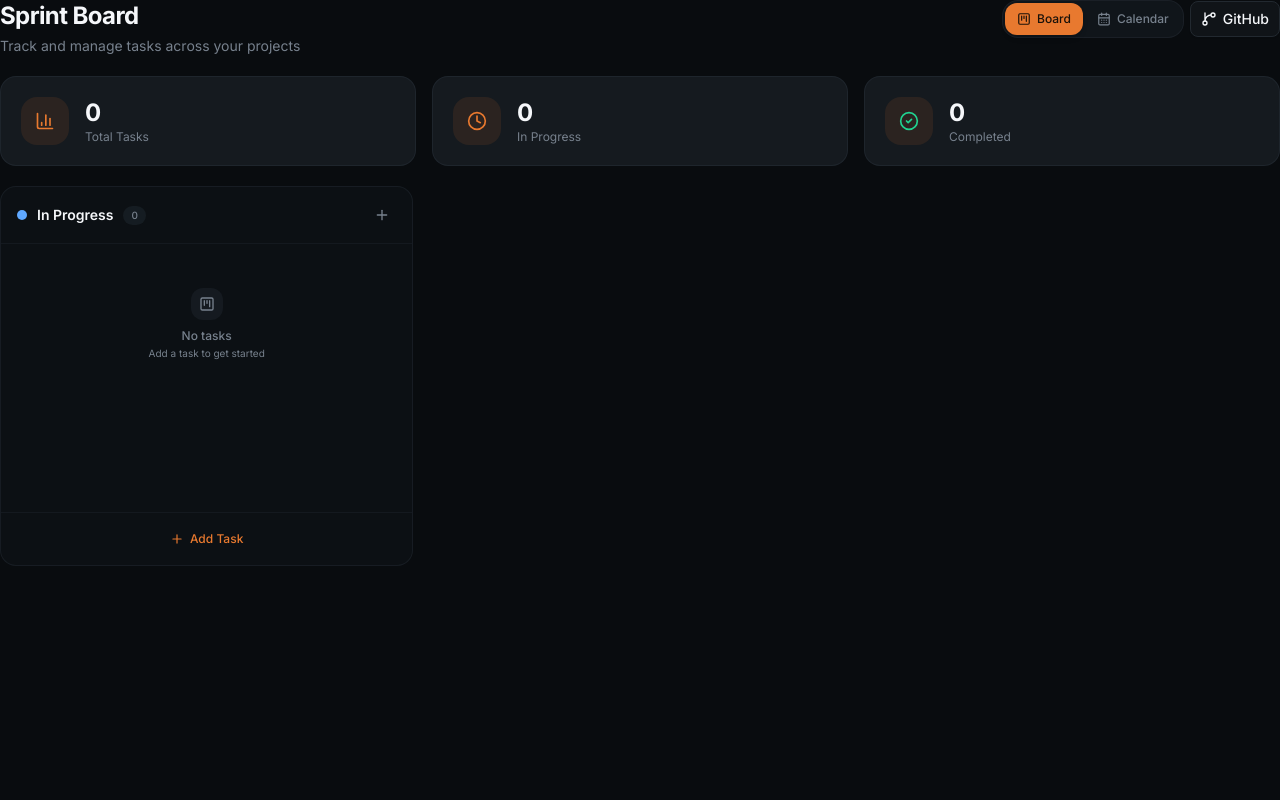
Test: BoardPage calendar › opens the task detail dialog when a calendar chip is clicked
Expected: the heading "Sprint Board" is shown, [0, 1, 138, 30]
Click the button "Calendar": [1133, 19] box [1085, 3, 1181, 35]
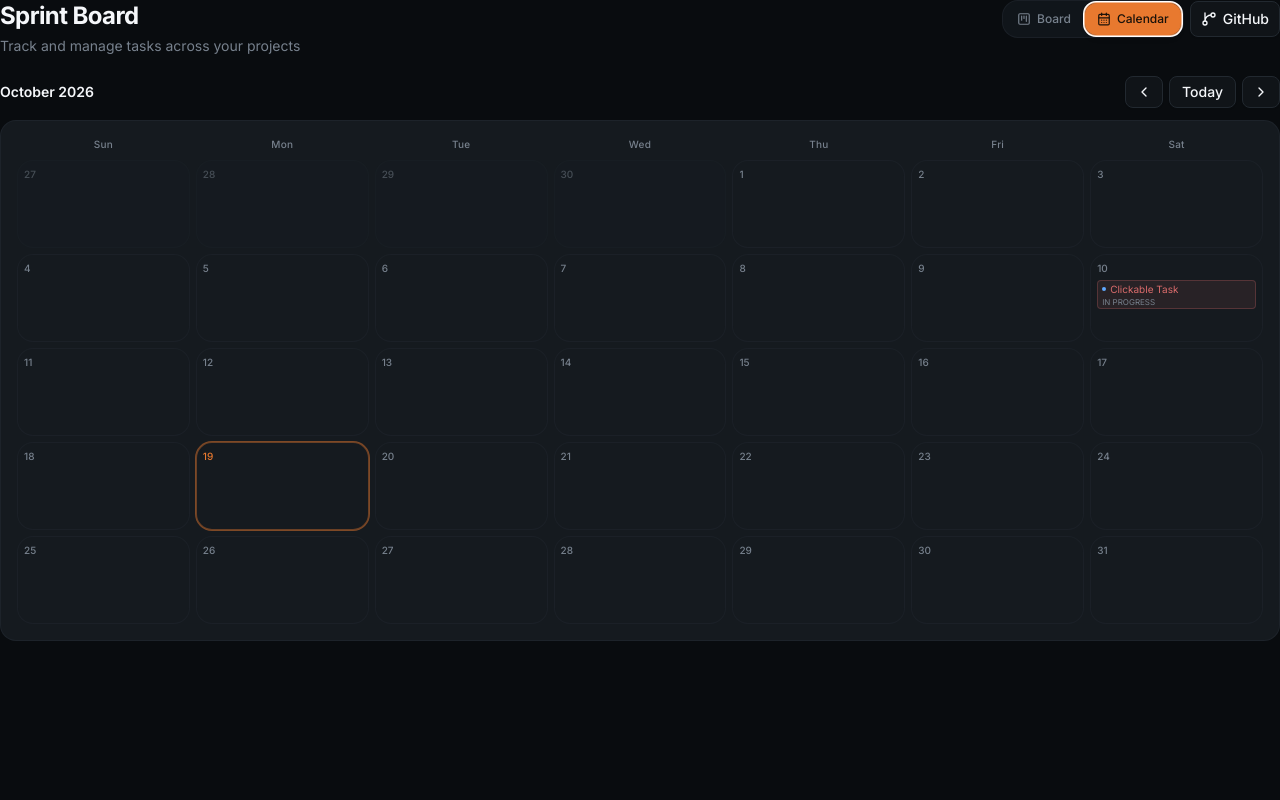
Click the button "Clickable Task In Progress": [1177, 294] box [1097, 280, 1256, 308]
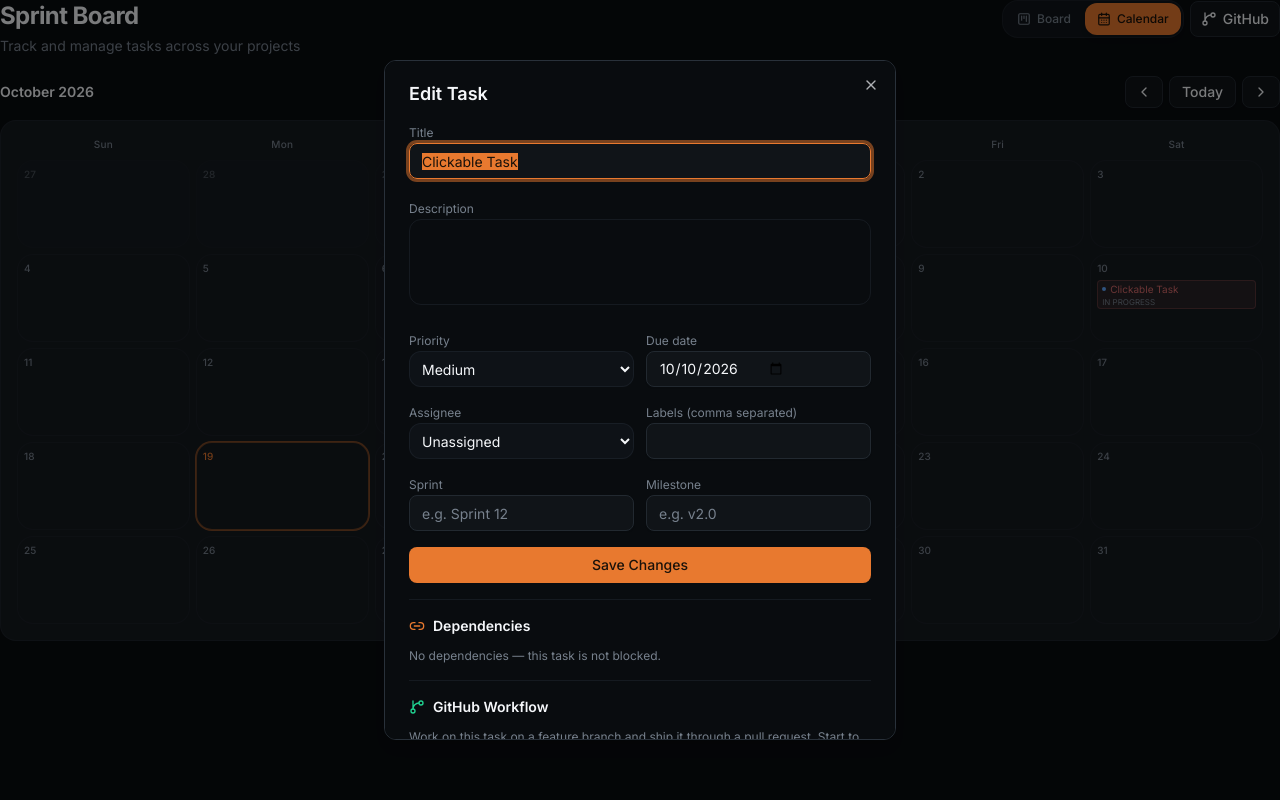
Expected: the field showing "Clickable Task" is shown, [409, 143, 871, 179]
